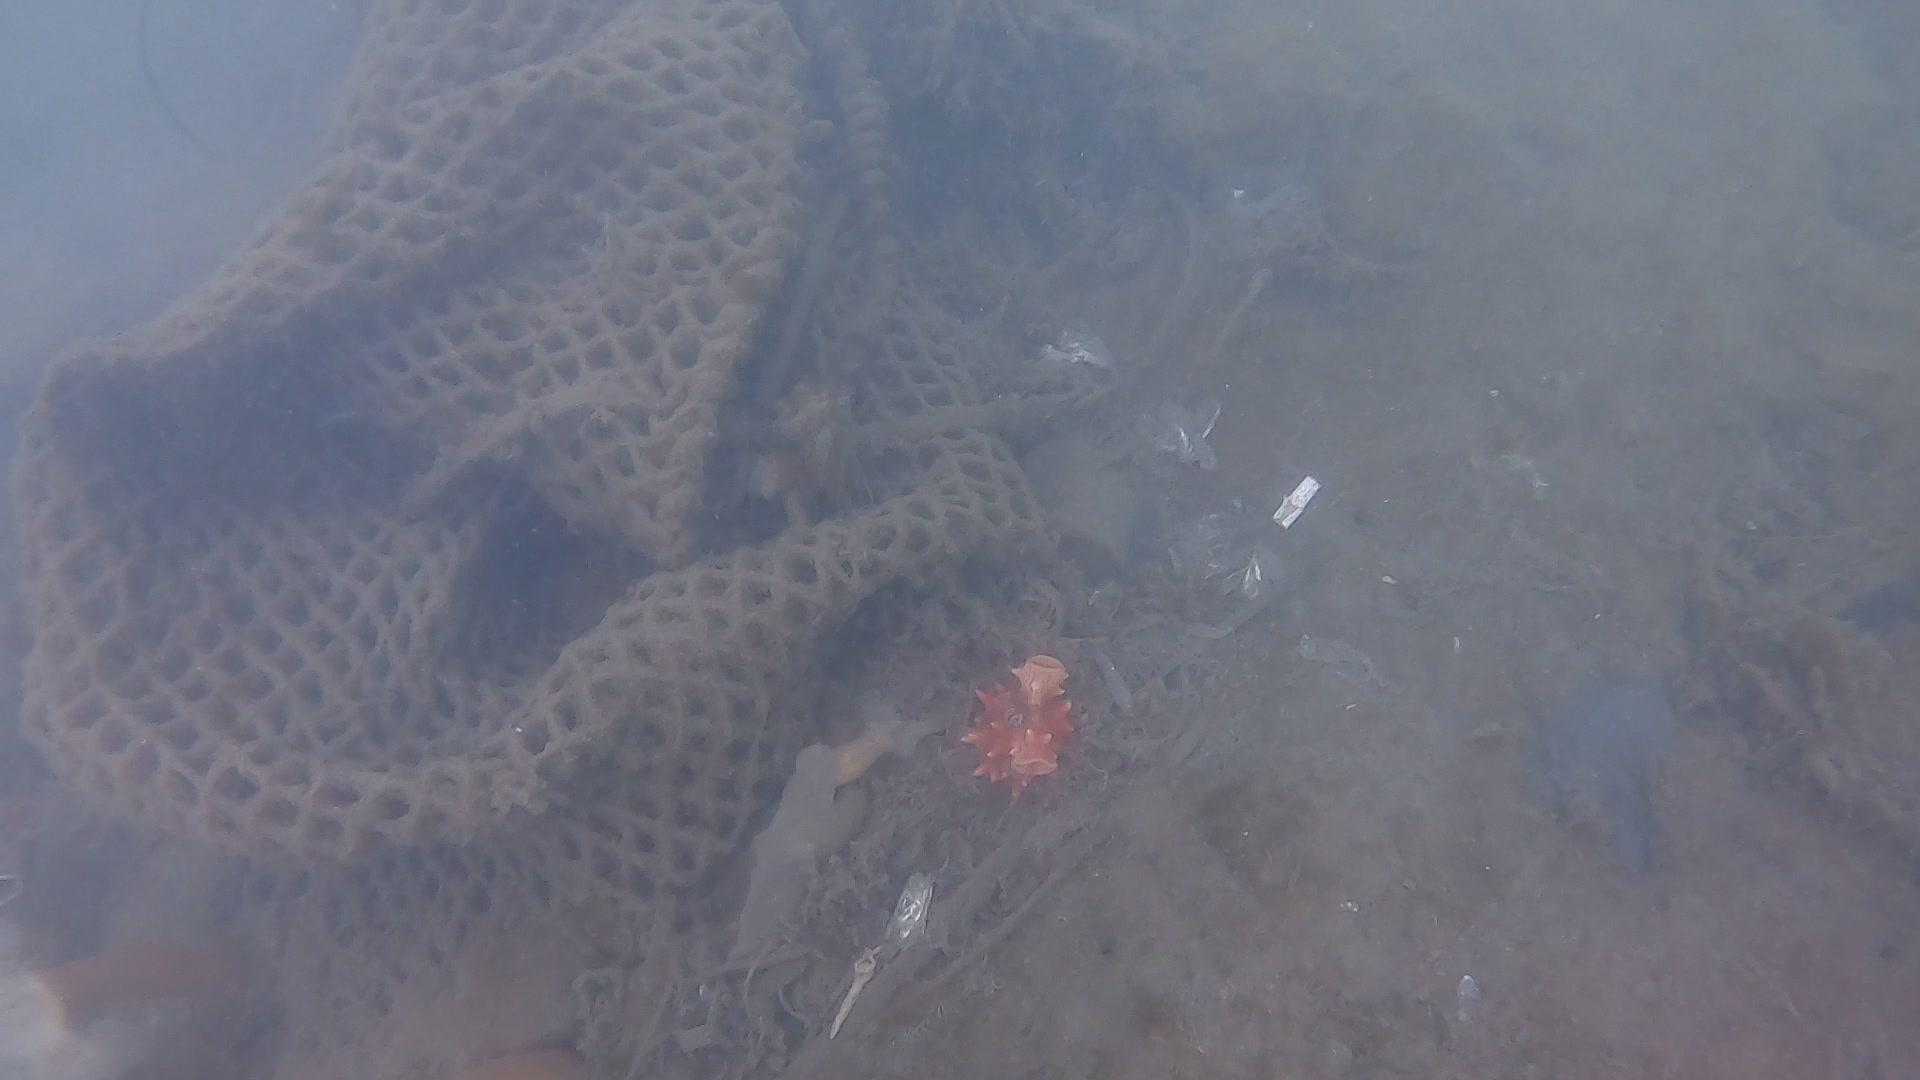fish net: (0, 0, 1068, 1080)
